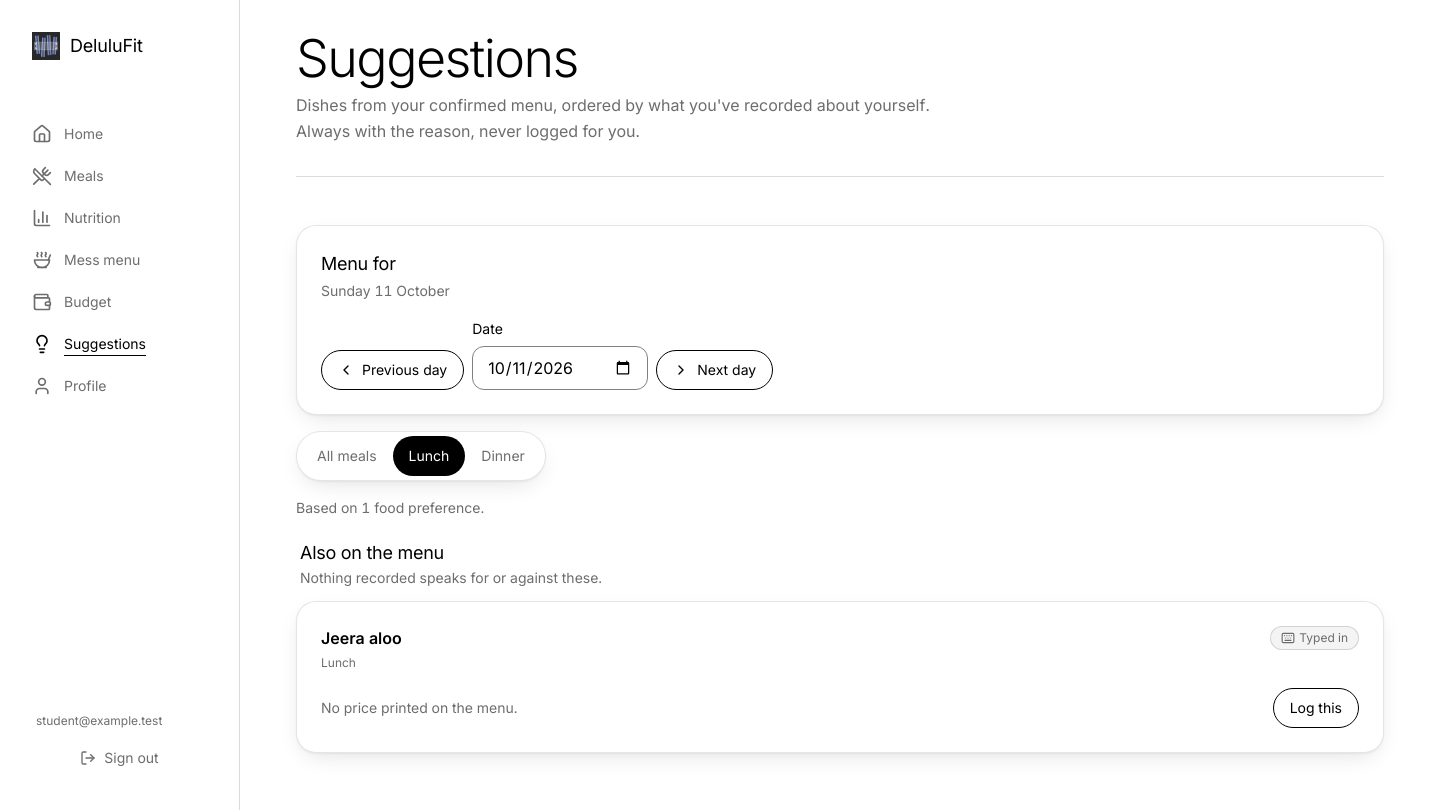
Scenario: suggestions page for a real account › keeps meal tabs in the address and asks the server for that meal
The image size is (1440, 810).
Expected: the element "Jeera aloo" is shown, [296, 601, 1384, 753]
Click the button "Dinner".
click(503, 456)  # box [465, 436, 541, 476]
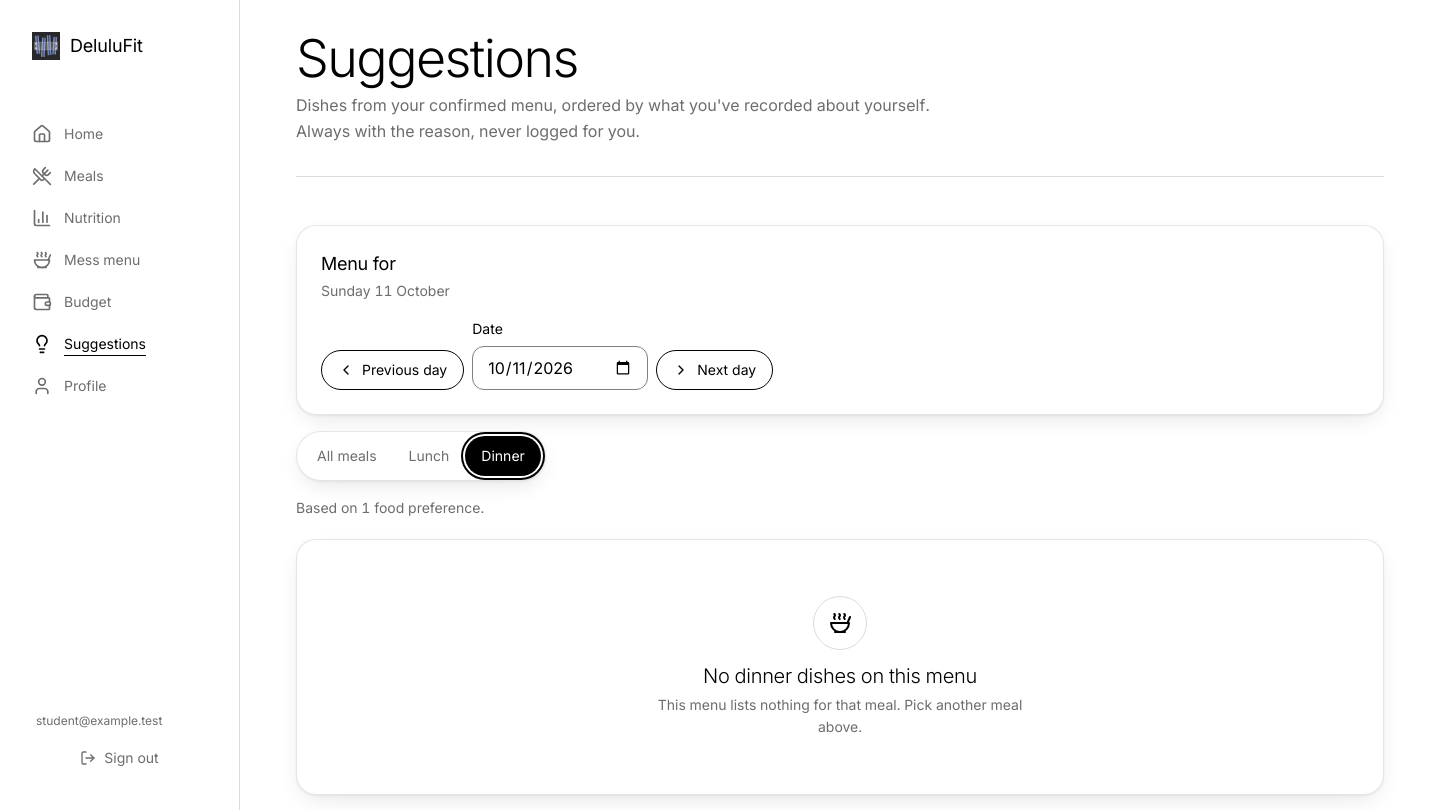
Result: the heading "No dinner dishes on this menu" is shown at [703, 662, 977, 690]
Click the button "All meals".
click(347, 456)  # box [301, 436, 393, 476]
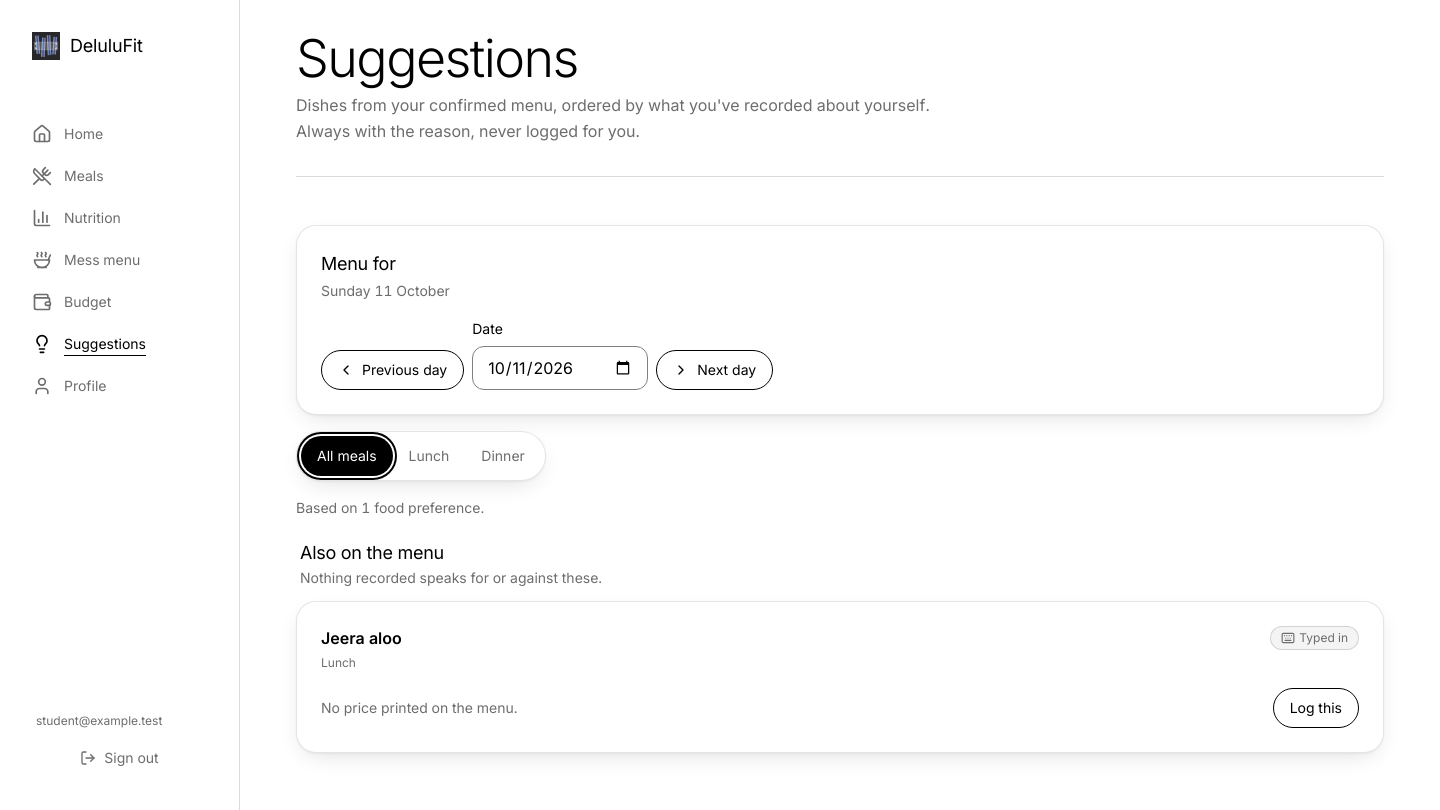
Result: the element "Jeera aloo" is shown at [296, 601, 1384, 753]
